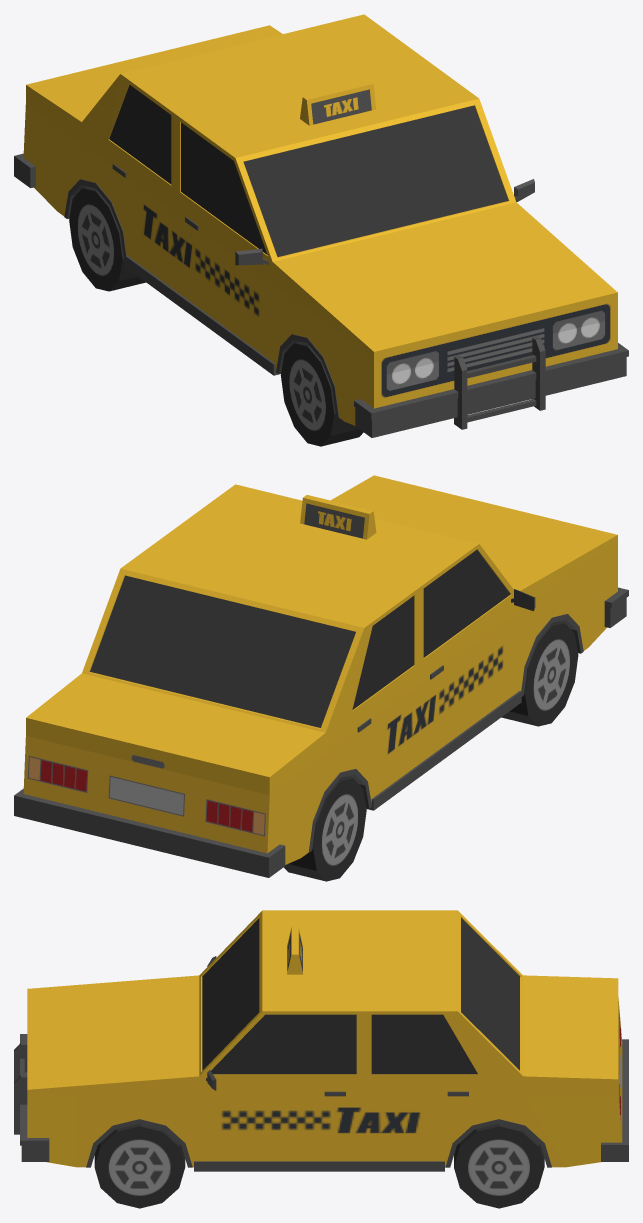
File: Car_Taxi.glb
The picture shows the model from 3 angles, top to bottom: view 1: azimuth 30°, elevation 25°; view 2: azimuth 150°, elevation 25°; view 3: azimuth 270°, elevation 25°; orthographic projection. The views are drawn at different scales.
Visible parts, largest first — view 1: Object_145.001; view 2: Object_145.001; view 3: Object_145.001.
Part boxes in pixels (x1,y1,x2,y2): Object_145.001: (14,14,628,446); Object_145.001: (14,475,628,881); Object_145.001: (14,910,628,1208).
Size of the model in its own units: 3.06 by 2.51 by 6.43.
Materials: 1 (1 with a texture image).
